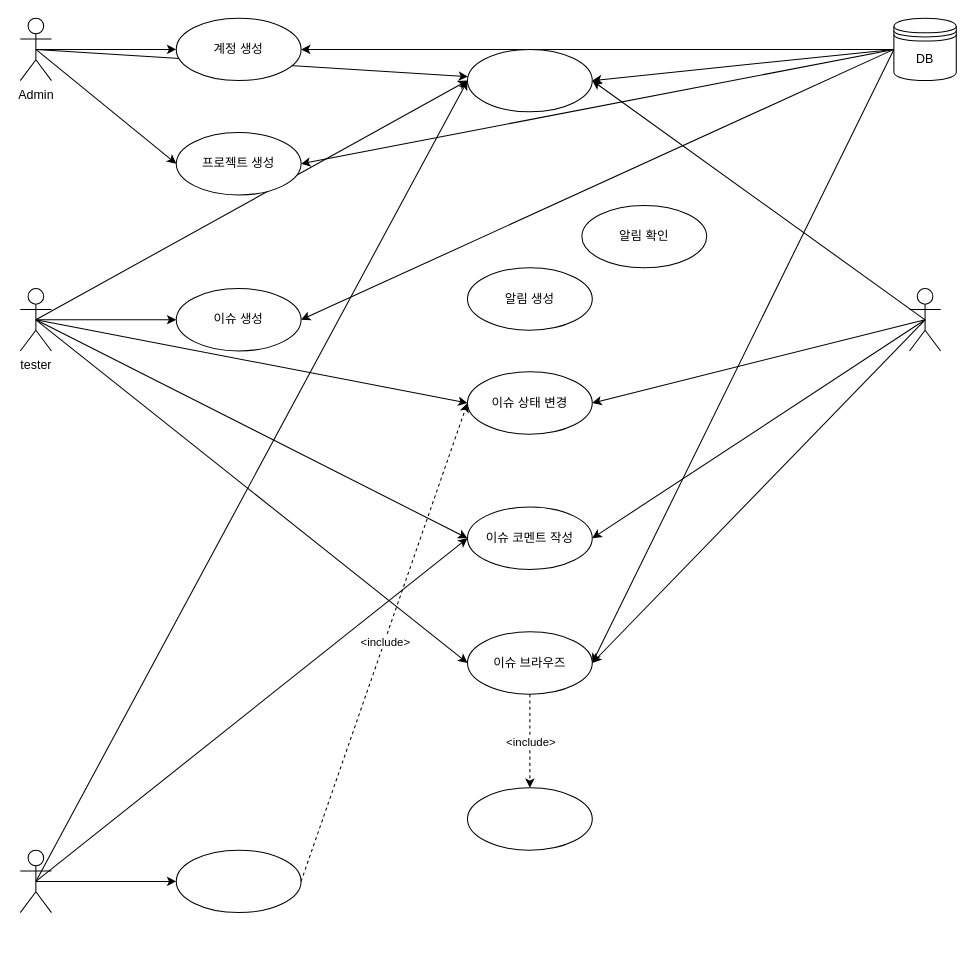
This 974x953 diagram has some shape labels left out. Here are the shapes that lost their labels. From the top down, the centre of each, then its label:
At point (529, 80): "계정 관리".
At point (924, 319): "dev".
At point (529, 818): "상태정보 확인".
At point (35, 881): "PL".
At point (238, 881): "담당자 배정".
